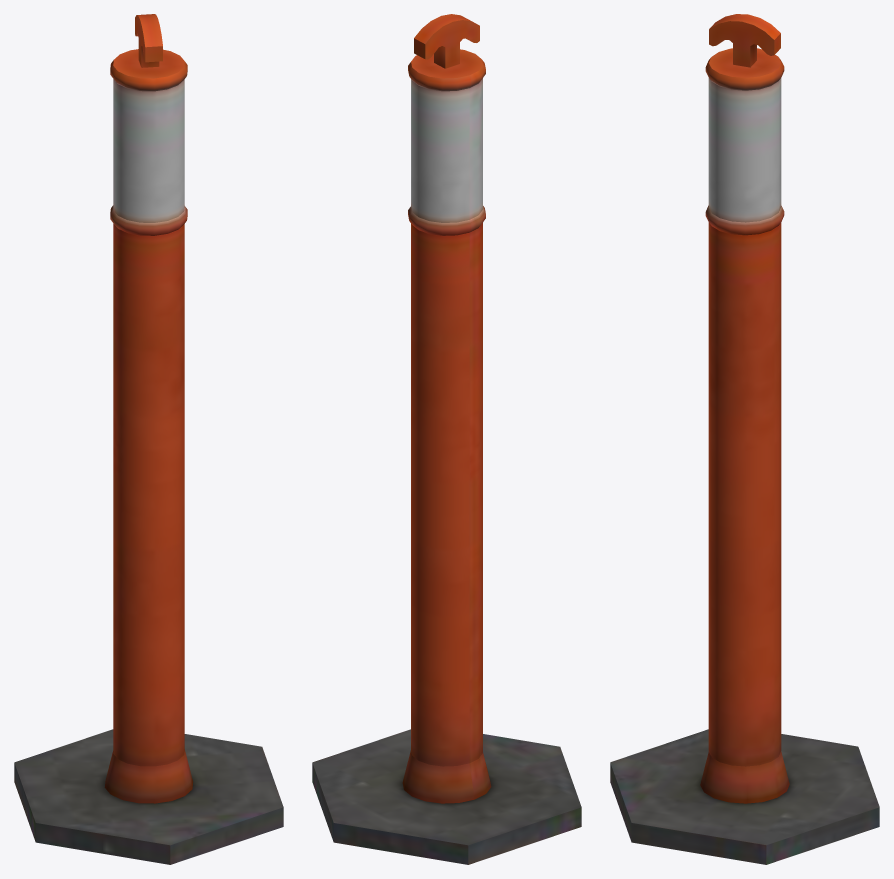
File: tc_bollard.glb
The picture shows the model from 3 angles, left to right: view 1: azimuth 30°, elevation 25°; view 2: azimuth 150°, elevation 25°; view 3: azimuth 270°, elevation 25°; orthographic projection.
Visible parts, largest first — view 1: Bollard_1.001_w; view 2: Bollard_1.001_w; view 3: Bollard_1.001_w.
Part boxes in pixels (x1,y1,x2,y2): Bollard_1.001_w: (14, 14, 283, 864); Bollard_1.001_w: (312, 14, 581, 864); Bollard_1.001_w: (610, 14, 879, 864).
Bounding box in the file's own units: 0.3633 × 1.1 × 0.3417.
1 material, 1 textured.
